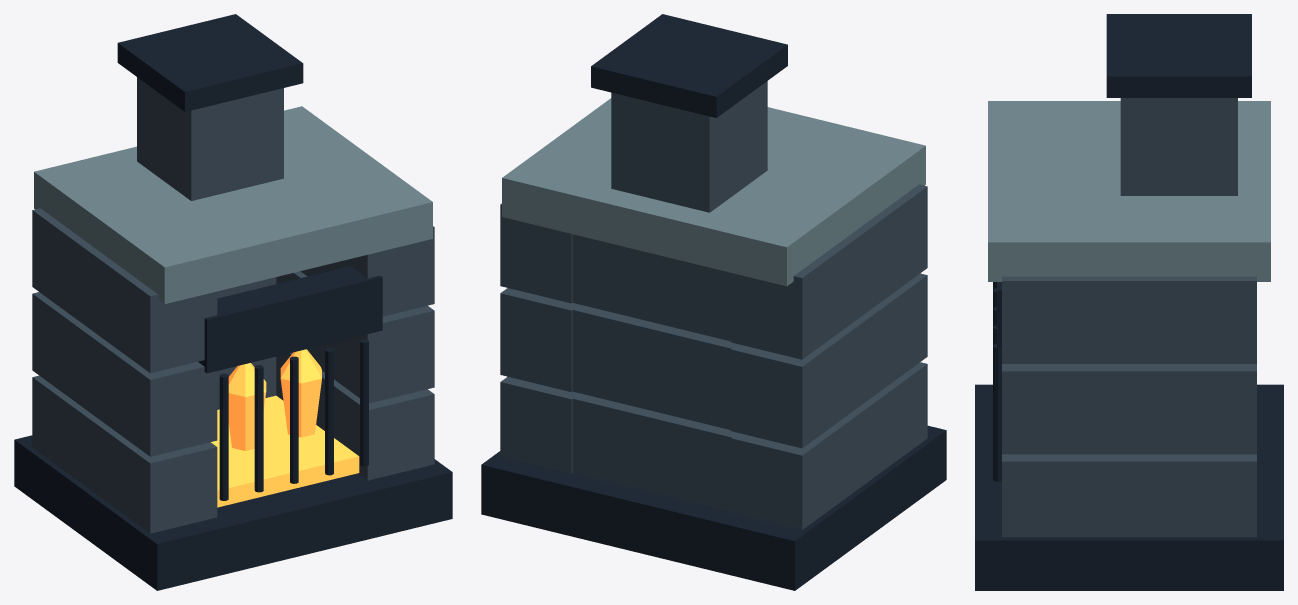
The model's file is Smelting_Furnace.gltf.
3 views of the same model, side by side, from view 1: azimuth 30°, elevation 25°; view 2: azimuth 150°, elevation 25°; view 3: azimuth 270°, elevation 25° (orthographic). The views are drawn at different scales.
Parts seen in each view (by area): view 1: Roof_10, Foundation_0, StoneWall_4, StoneWall_1, StoneWall_7, Chimney_11, Lintel_14, ChimneyCap_12, StoneWall_2, StoneWall_5, Hearth_13, StoneWall_8 (+8 smaller); view 2: Roof_10, Foundation_0, StoneWall_4, StoneWall_7, StoneWall_1, Chimney_11, BackWall_6, BackWall_3, ChimneyCap_12, BackWall_9, StoneWall_5, StoneWall_2 (+1 smaller); view 3: Roof_10, Foundation_0, StoneWall_5, StoneWall_8, StoneWall_2, ChimneyCap_12, Chimney_11, Grate_22.
Boxes of the visible parts, left/top/right/bottom form: Roof_10: left=34, top=106, right=432, bottom=303; Foundation_0: left=14, top=435, right=452, bottom=590; StoneWall_4: left=32, top=292, right=217, bottom=456; StoneWall_1: left=32, top=375, right=217, bottom=533; StoneWall_7: left=32, top=208, right=217, bottom=373; Chimney_11: left=137, top=77, right=283, bottom=200; Lintel_14: left=198, top=266, right=382, bottom=373; ChimneyCap_12: left=117, top=14, right=303, bottom=111; StoneWall_2: left=276, top=352, right=434, bottom=480; StoneWall_5: left=276, top=271, right=434, bottom=403; Hearth_13: left=211, top=395, right=359, bottom=507; StoneWall_8: left=300, top=226, right=434, bottom=316; Roof_10: left=502, top=98, right=925, bottom=286; Foundation_0: left=481, top=425, right=946, bottom=590; StoneWall_4: left=731, top=273, right=927, bottom=448; StoneWall_7: left=731, top=184, right=927, bottom=359; StoneWall_1: left=731, top=362, right=927, bottom=529; Chimney_11: left=611, top=81, right=767, bottom=212; BackWall_6: left=555, top=301, right=755, bottom=429; BackWall_3: left=572, top=393, right=755, bottom=511; ChimneyCap_12: left=591, top=14, right=787, bottom=117; BackWall_9: left=572, top=234, right=730, bottom=341; StoneWall_5: left=500, top=288, right=572, bottom=391; StoneWall_2: left=500, top=376, right=579, bottom=473; Roof_10: left=988, top=101, right=1270, bottom=281; Foundation_0: left=975, top=384, right=1283, bottom=590; StoneWall_5: left=1002, top=364, right=1256, bottom=454; StoneWall_8: left=1002, top=276, right=1256, bottom=363; StoneWall_2: left=1002, top=454, right=1256, bottom=537; ChimneyCap_12: left=1106, top=14, right=1251, bottom=97; Chimney_11: left=1120, top=98, right=1237, bottom=195; Grate_22: left=993, top=344, right=1001, bottom=481.
Bounding box in the file's own units: 1.85 × 2.59 × 1.55.
